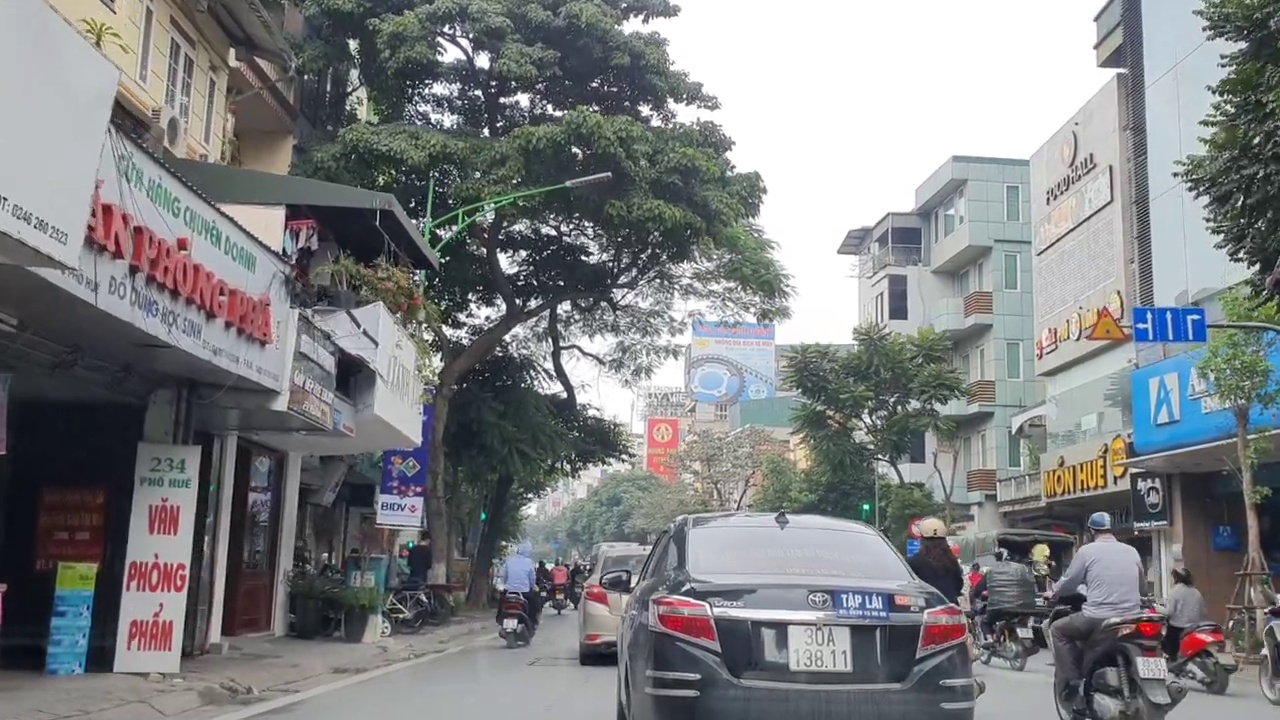person: (1133, 654, 1172, 681), (1014, 625, 1038, 639), (502, 616, 518, 630)
